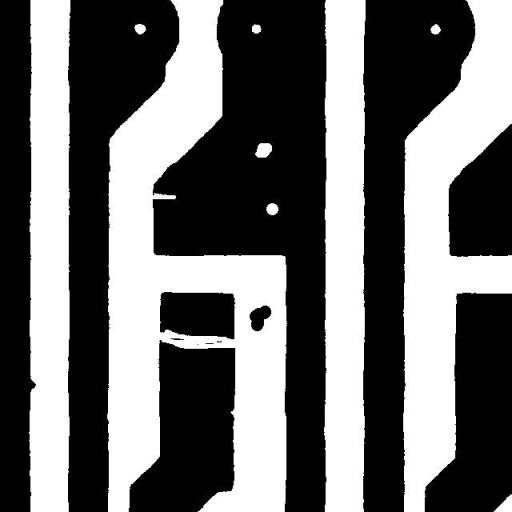copper: (242, 298, 278, 338)
mousebite: (138, 185, 183, 206)
open: (145, 322, 247, 356)
pin-hole: (247, 135, 279, 165), (258, 196, 286, 222)
